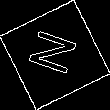N_E: (25, 28, 85, 82)
